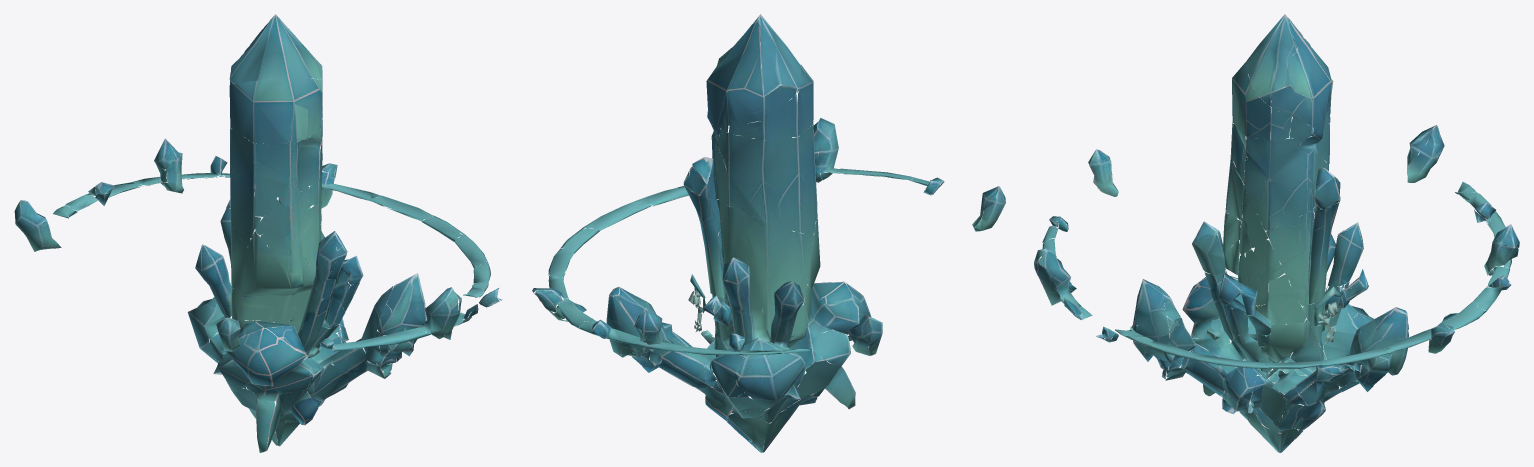
File: cristal-ancora-turquesa.glb
3 renders of one model, left to right at view 1: azimuth 30°, elevation 25°; view 2: azimuth 150°, elevation 25°; view 3: azimuth 270°, elevation 25°, orthographic. The views are drawn at different scales.
Parts seen in each view (by area): view 1: tripo_node_eacd9fe2-327e-490f-b6bc-3e3545218046; view 2: tripo_node_eacd9fe2-327e-490f-b6bc-3e3545218046; view 3: tripo_node_eacd9fe2-327e-490f-b6bc-3e3545218046.
Part boxes in pixels (bbox=[...]): tripo_node_eacd9fe2-327e-490f-b6bc-3e3545218046: bbox=[14, 14, 502, 452]; tripo_node_eacd9fe2-327e-490f-b6bc-3e3545218046: bbox=[532, 14, 1005, 452]; tripo_node_eacd9fe2-327e-490f-b6bc-3e3545218046: bbox=[1034, 14, 1519, 452].
Bounding box in the file's own units: 0.897 × 0.9949 × 1.
1 material, 1 textured.
